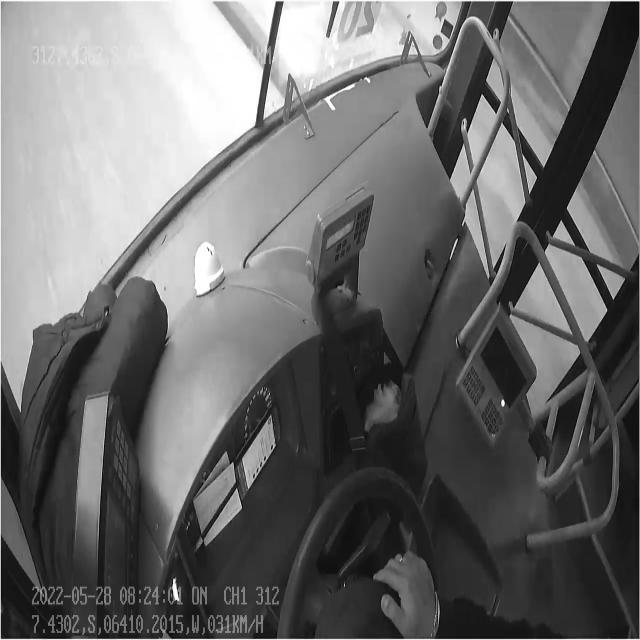phone: (236, 396, 284, 488)
wheel: (272, 483, 453, 634)
